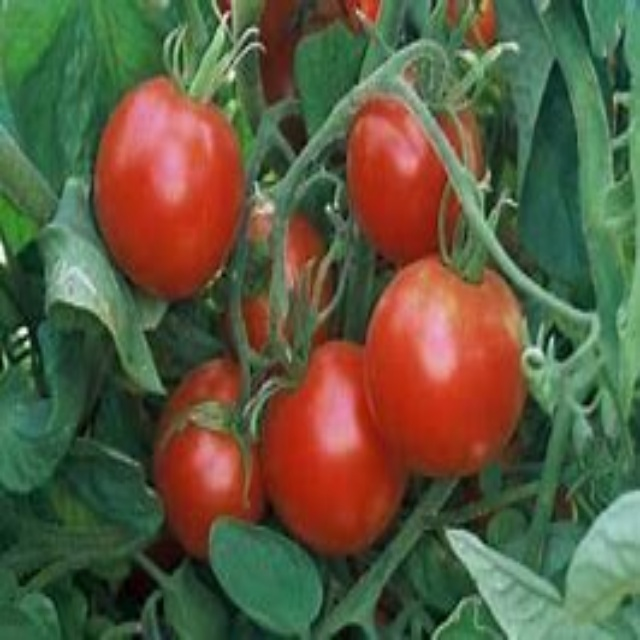tomato: (364, 257, 520, 480), (91, 81, 249, 298), (261, 347, 402, 567), (341, 91, 490, 266), (138, 375, 271, 547), (228, 217, 339, 383)
